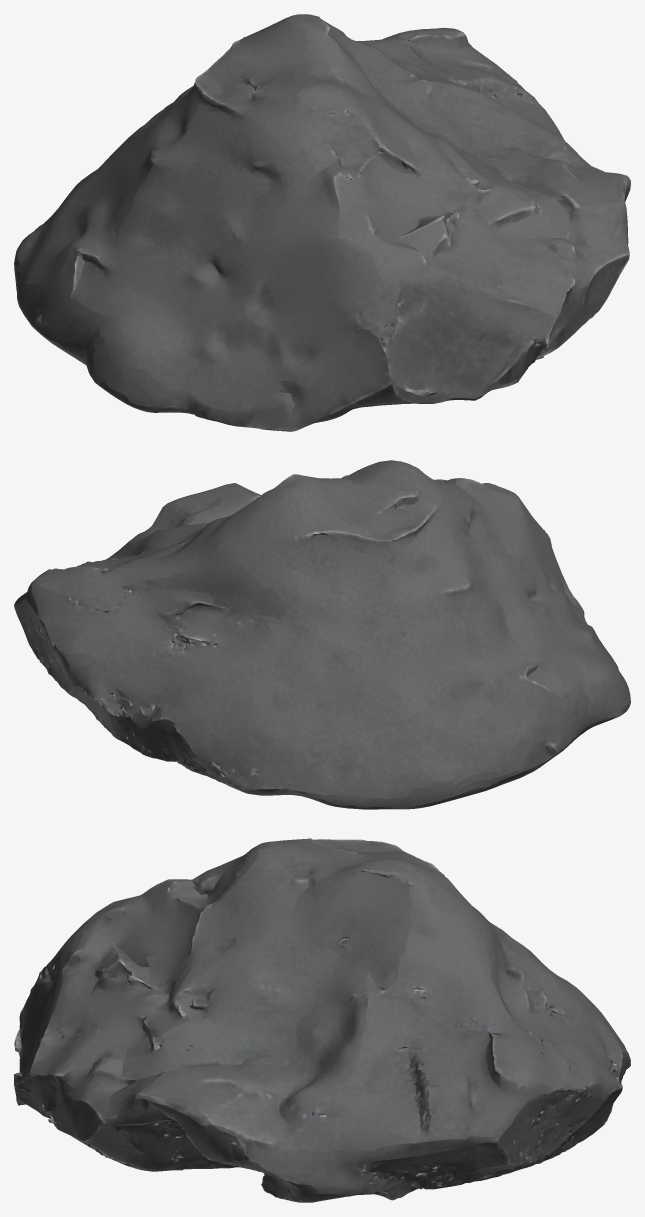
The picture shows the model from 3 angles, top to bottom: view 1: azimuth 30°, elevation 25°; view 2: azimuth 150°, elevation 25°; view 3: azimuth 270°, elevation 25°; orthographic projection. The views are drawn at different scales.
Visible parts, largest first — view 1: world; view 2: world; view 3: world.
Boxes of the visible parts, box(x1,y1,x2,y2) form: world: box(14, 14, 630, 431); world: box(14, 460, 630, 809); world: box(14, 838, 630, 1202).
Size of the model in its own units: 1.2 by 0.5519 by 1.2.
Materials: 1 (1 with a texture image).
